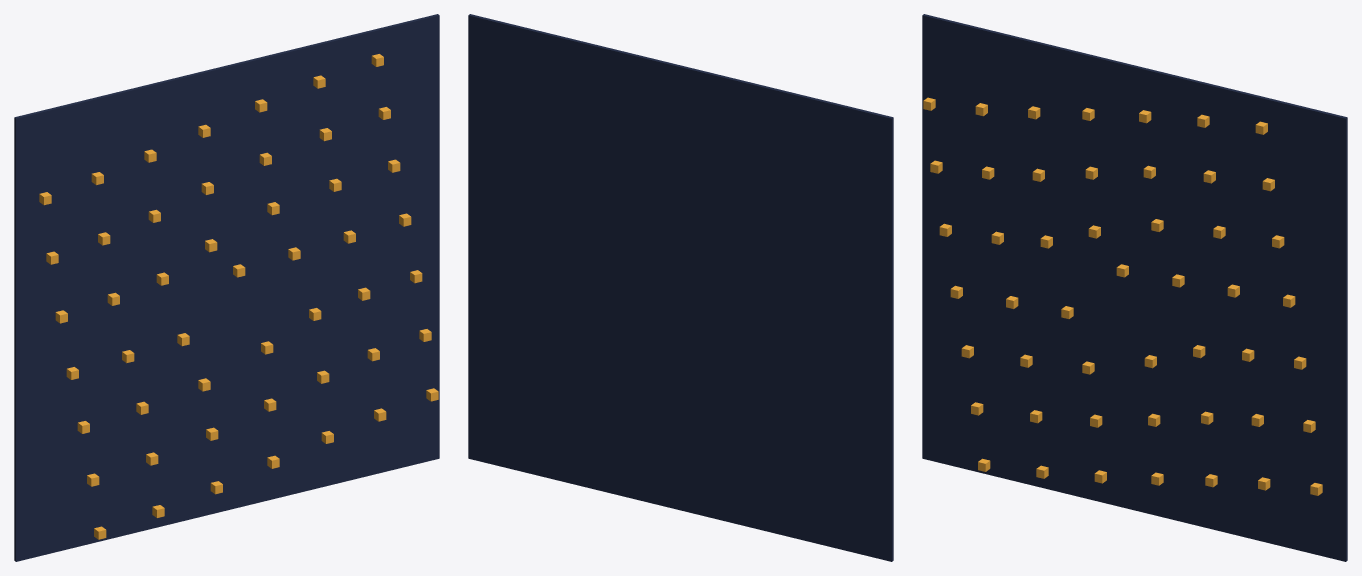
3 renders of one model, left to right at view 1: azimuth 30°, elevation 25°; view 2: azimuth 150°, elevation 25°; view 3: azimuth 330°, elevation 25°, orthographic.
Parts seen in each view (by area): view 1: vector-field; view 2: vector-field; view 3: vector-field.
Part boxes in pixels (x1,y1,x2,y2): vector-field: (14,14,439,561); vector-field: (468,14,893,561); vector-field: (922,14,1347,561).
Bounding box in the file's own units: 6.5 × 6.5 × 0.405.
